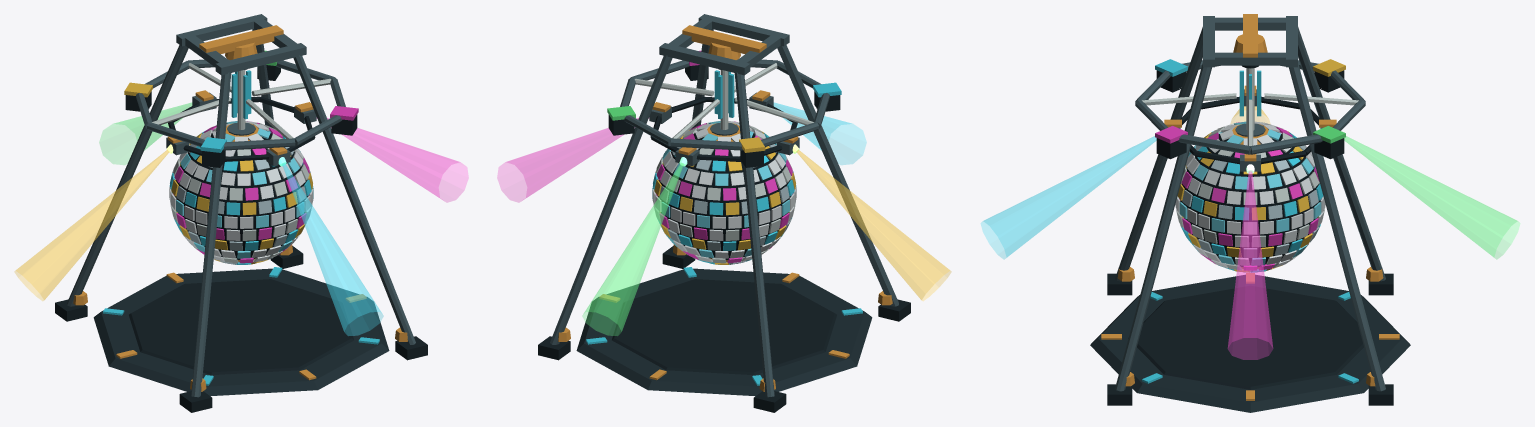
File: disco_ball_d0_lod0.glb
3 renders of one model, left to right at view 1: azimuth 30°, elevation 25°; view 2: azimuth 150°, elevation 25°; view 3: azimuth 270°, elevation 25°, orthographic. The views are drawn at different scales.
Visible parts, largest first — view 1: STANDALONE_CRADLE, LASER_BEAM_PREVIEW, DISCO_SPHERE_MESH, LIGHT_HALO_BODY, LASER_RING_BODY, HOIST_TETHER_ASSEMBLY; view 2: STANDALONE_CRADLE, LASER_BEAM_PREVIEW, DISCO_SPHERE_MESH, LIGHT_HALO_BODY, LASER_RING_BODY, HOIST_TETHER_ASSEMBLY; view 3: STANDALONE_CRADLE, DISCO_SPHERE_MESH, LASER_BEAM_PREVIEW, LIGHT_HALO_BODY, LASER_RING_BODY, HOIST_TETHER_ASSEMBLY.
Boxes of the visible parts, x1=… form: STANDALONE_CRADLE: x1=55, y1=14, x2=427, y2=412; LASER_BEAM_PREVIEW: x1=14, y1=102, x2=468, y2=335; DISCO_SPHERE_MESH: x1=169, y1=121, x2=313, y2=264; LIGHT_HALO_BODY: x1=124, y1=50, x2=358, y2=167; LASER_RING_BODY: x1=166, y1=90, x2=316, y2=166; HOIST_TETHER_ASSEMBLY: x1=225, y1=42, x2=257, y2=135; STANDALONE_CRADLE: x1=538, y1=14, x2=910, y2=412; LASER_BEAM_PREVIEW: x1=497, y1=102, x2=951, y2=335; DISCO_SPHERE_MESH: x1=652, y1=121, x2=796, y2=264; LIGHT_HALO_BODY: x1=607, y1=50, x2=841, y2=167; LASER_RING_BODY: x1=649, y1=90, x2=799, y2=166; HOIST_TETHER_ASSEMBLY: x1=708, y1=42, x2=740, y2=135; STANDALONE_CRADLE: x1=1090, y1=14, x2=1410, y2=412; DISCO_SPHERE_MESH: x1=1175, y1=121, x2=1325, y2=272; LASER_BEAM_PREVIEW: x1=981, y1=106, x2=1519, y2=359; LIGHT_HALO_BODY: x1=1135, y1=59, x2=1365, y2=159; LASER_RING_BODY: x1=1164, y1=85, x2=1336, y2=171; HOIST_TETHER_ASSEMBLY: x1=1233, y1=34, x2=1267, y2=136.
Bounding box in the file's own units: 9.9 × 6.31 × 9.92.
